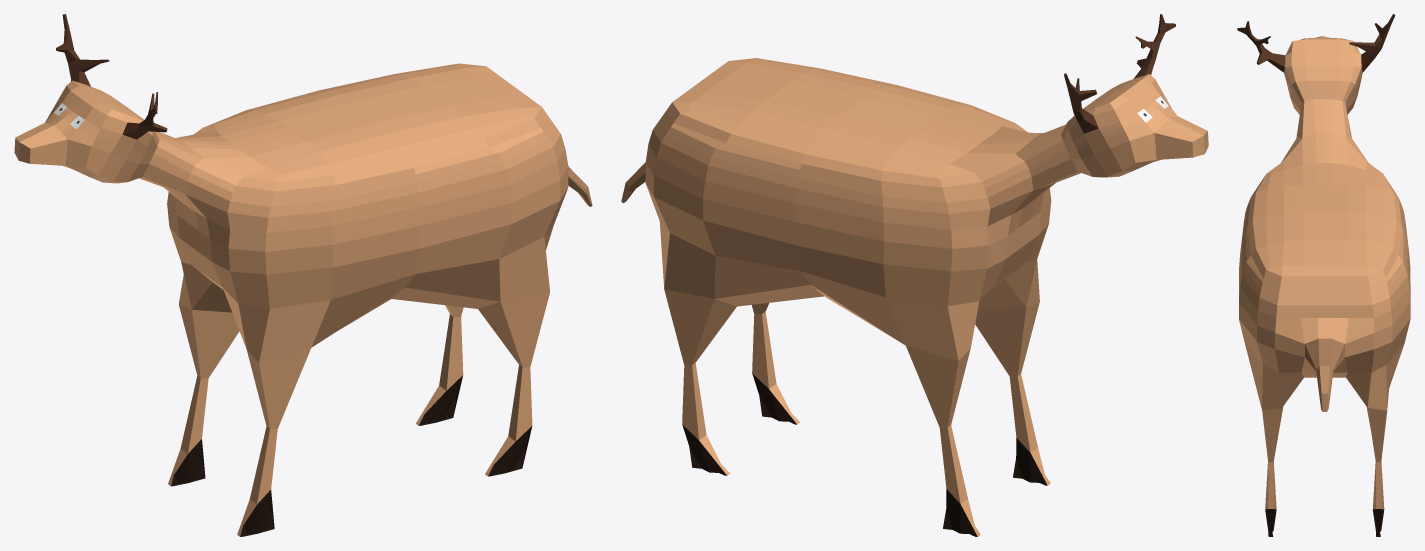
Rendered from cerf.fbx.
3 renders of one model, left to right at view 1: azimuth 30°, elevation 25°; view 2: azimuth 150°, elevation 25°; view 3: azimuth 270°, elevation 25°, orthographic. The views are drawn at different scales.
Visible parts, largest first — view 1: Cube; view 2: Cube; view 3: Cube.
Part boxes in pixels (left/top/right/bottom): Cube: left=14, top=14, right=592, bottom=536; Cube: left=621, top=14, right=1208, bottom=536; Cube: left=1237, top=14, right=1410, bottom=536.
Bounding box in the file's own units: 719 × 584 × 241.
